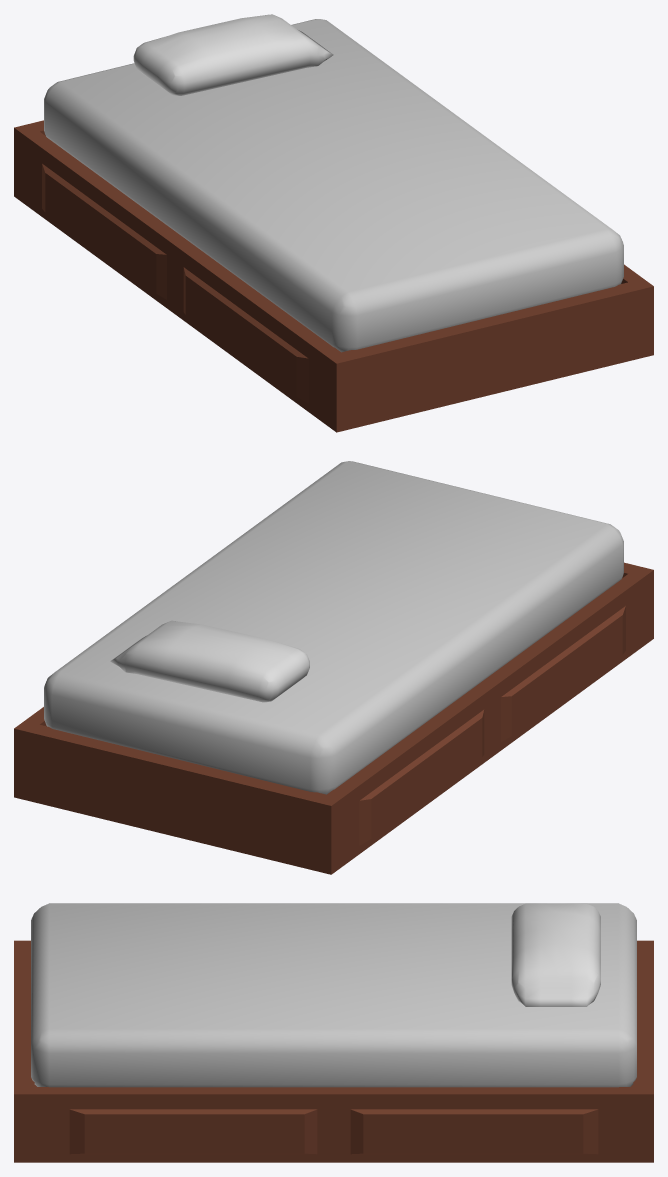
The model's file is Bed.fbx.
The picture shows the model from 3 angles, top to bottom: view 1: azimuth 30°, elevation 25°; view 2: azimuth 150°, elevation 25°; view 3: azimuth 270°, elevation 25°; orthographic projection.
Parts seen in each view (by area): view 1: Cube.002; view 2: Cube.002; view 3: Cube.002.
Part boxes in pixels (bbox=[...]): Cube.002: bbox=[14, 14, 653, 432]; Cube.002: bbox=[14, 461, 653, 874]; Cube.002: bbox=[14, 903, 653, 1162].
Bounding box in the file's own units: 296 × 140 × 507.
